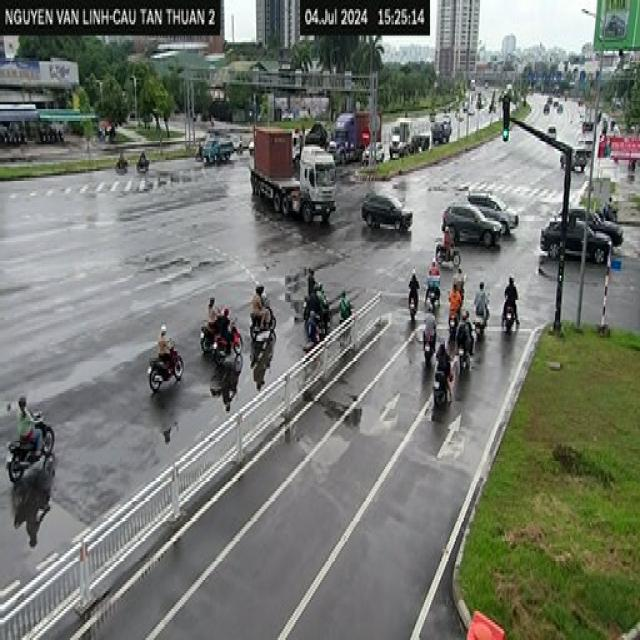Green: (502, 94, 511, 149), (558, 257, 564, 287)
